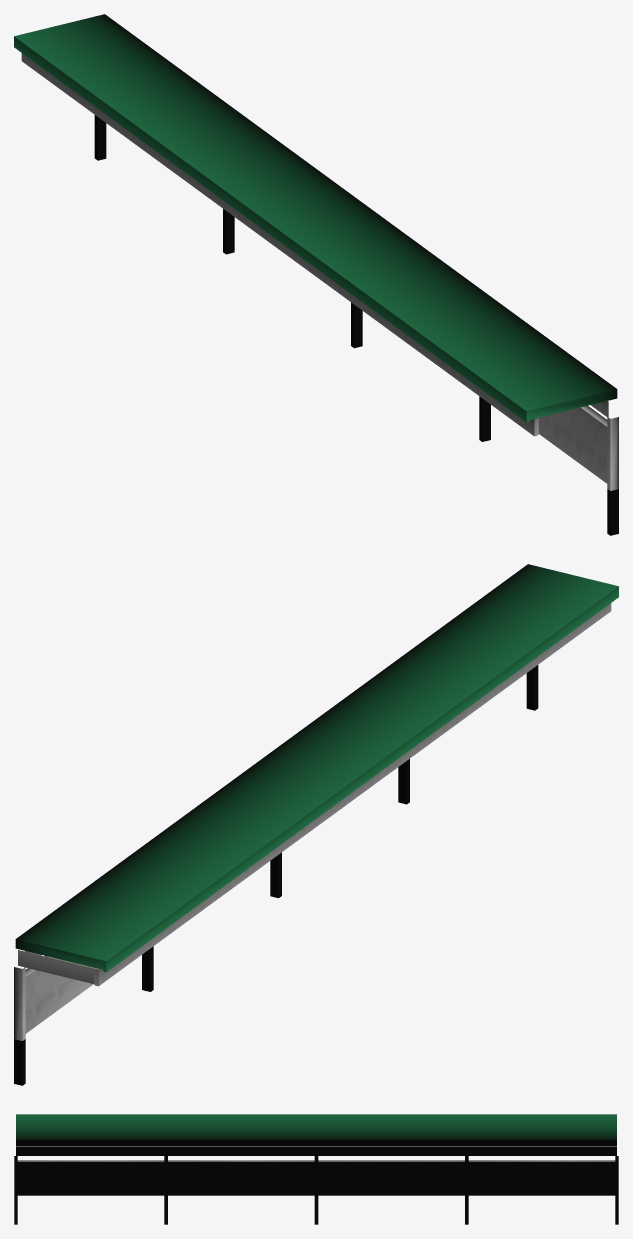
File: AMB_MEI_YANE01.glb
3 views of the same model, one above another, from view 1: azimuth 30°, elevation 25°; view 2: azimuth 150°, elevation 25°; view 3: azimuth 270°, elevation 25° (orthographic). The views are drawn at different scales.
Visible parts, largest first — view 1: Mesh1; view 2: Mesh1; view 3: Mesh1.
Boxes of the visible parts, x1,y1,x2,y2 form: Mesh1: (14,14,618,535); Mesh1: (14,564,618,1085); Mesh1: (14,1114,618,1224).
Bounding box in the file's own units: 10.24 × 15.44 × 101.
Materials: 7 (6 with a texture image).
